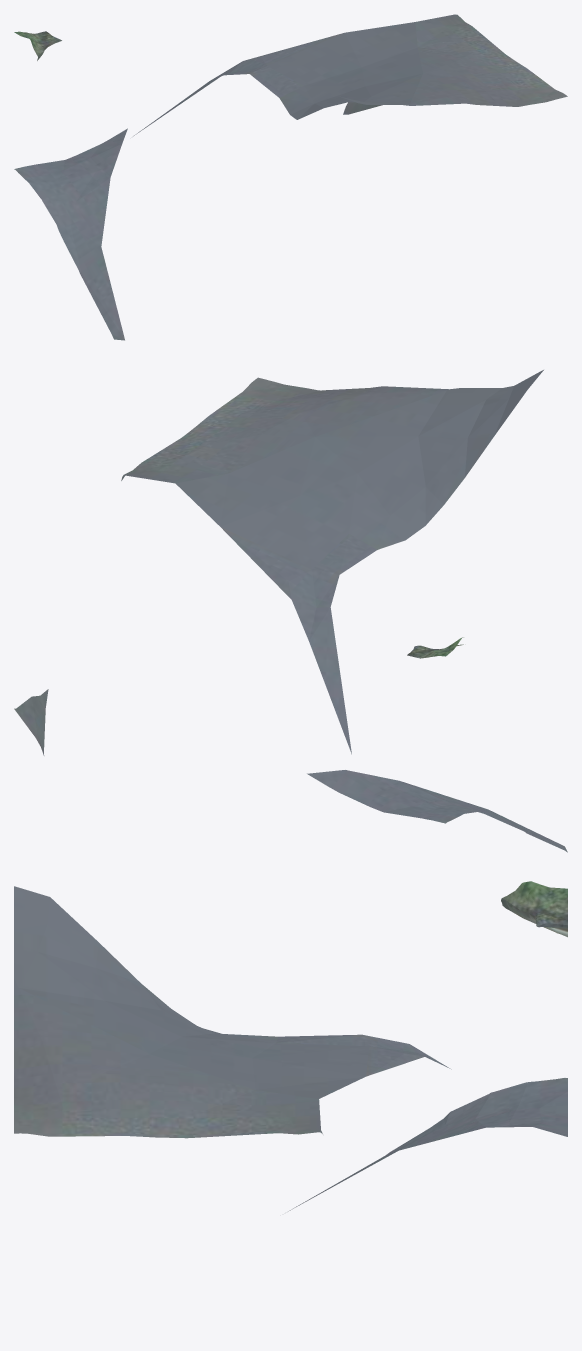
File: Tile_+001_+006_L22_00020000.glb
3 renders of one model, top to bottom at view 1: azimuth 30°, elevation 25°; view 2: azimuth 150°, elevation 25°; view 3: azimuth 270°, elevation 25°, orthographic. The views are drawn at different scales.
Visible parts, largest first — view 1: rtc; view 2: rtc; view 3: rtc.
Boxes of the visible parts, x1,y1,x2,y2 form: rtc: (14,14,567,340); rtc: (14,370,567,852); rtc: (14,881,567,1211).
Size of the model in its own units: 25.59 by 20.32 by 25.06.
Materials: 1 (1 with a texture image).
